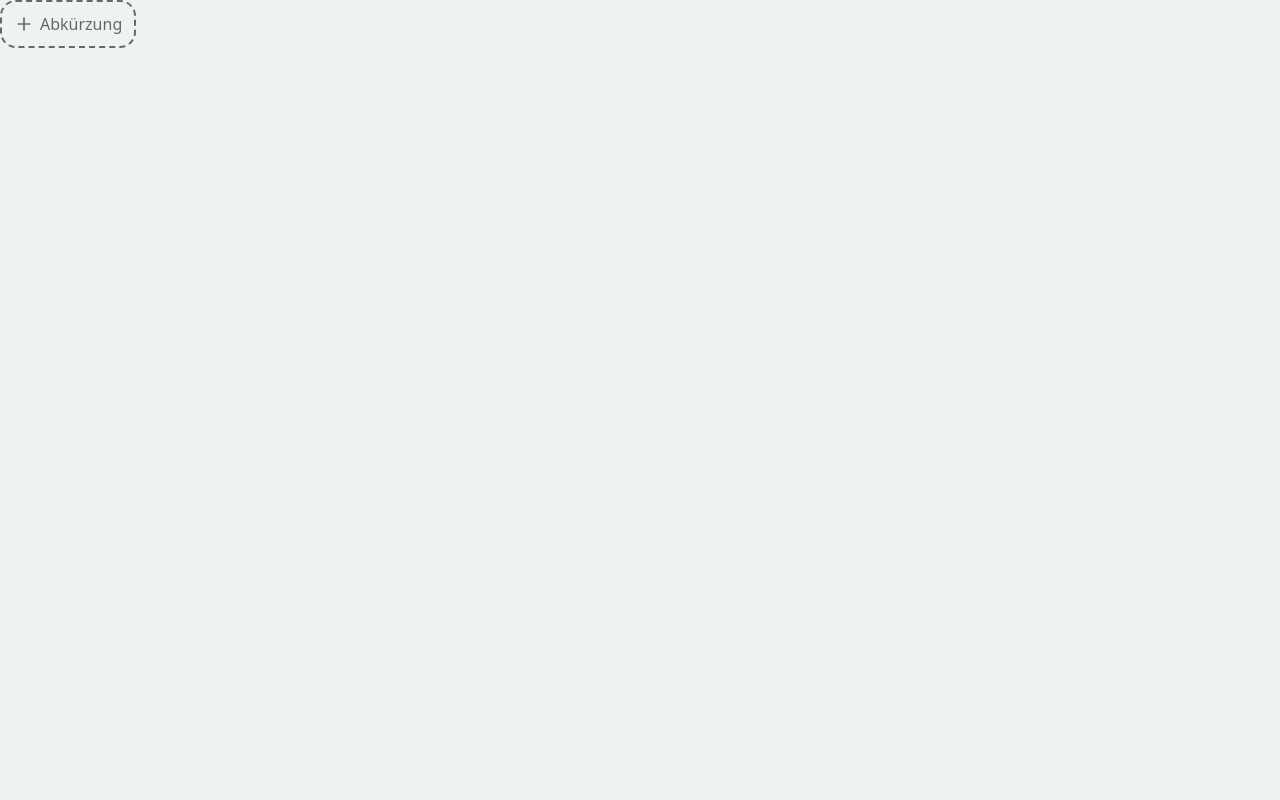
Test: AbbreviationChip in de › shows an add chip while empty and opens the sheet
What coordinates should you click on to do the following:
click the button with test id "abbreviation-chip"
I would click on:
 (68, 24)
Its box is [0, 0, 136, 48].
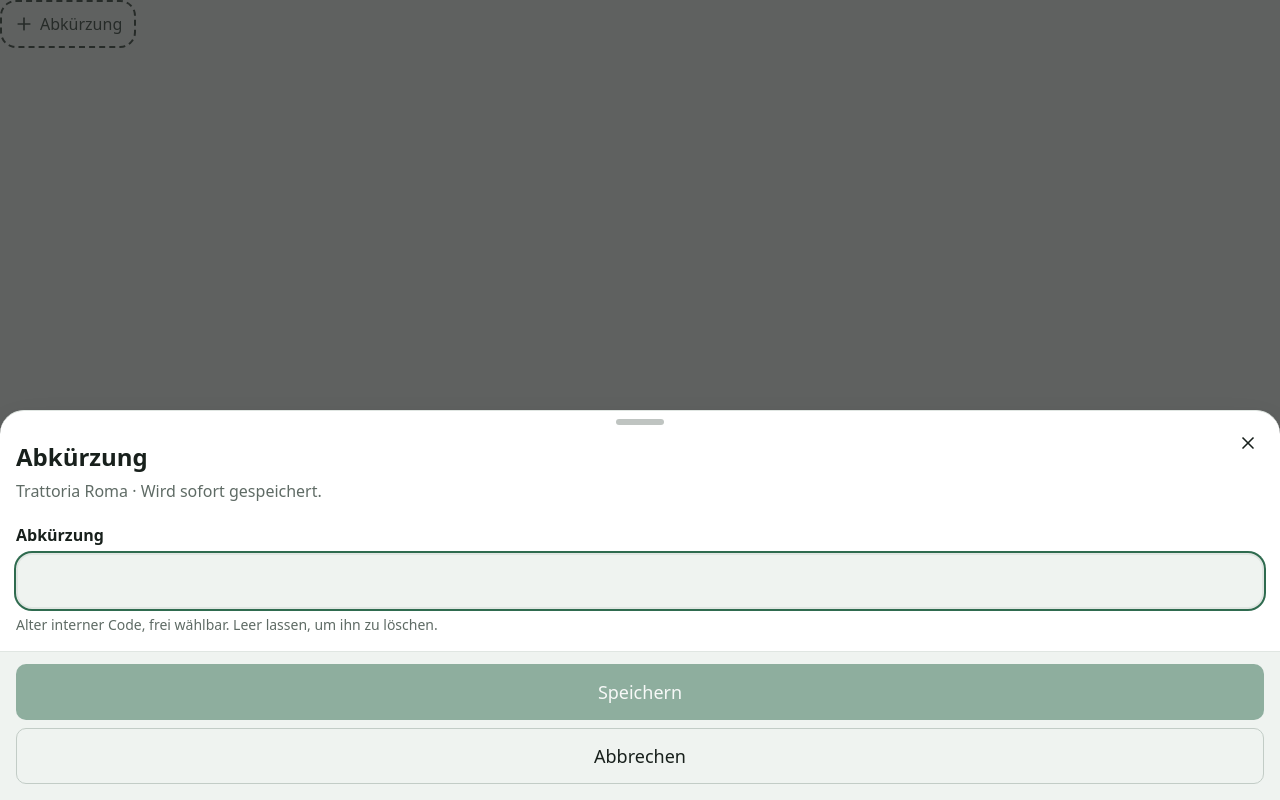
expect the dialog with test id "abbreviation-sheet" is shown: met, box [0, 410, 1279, 799]
